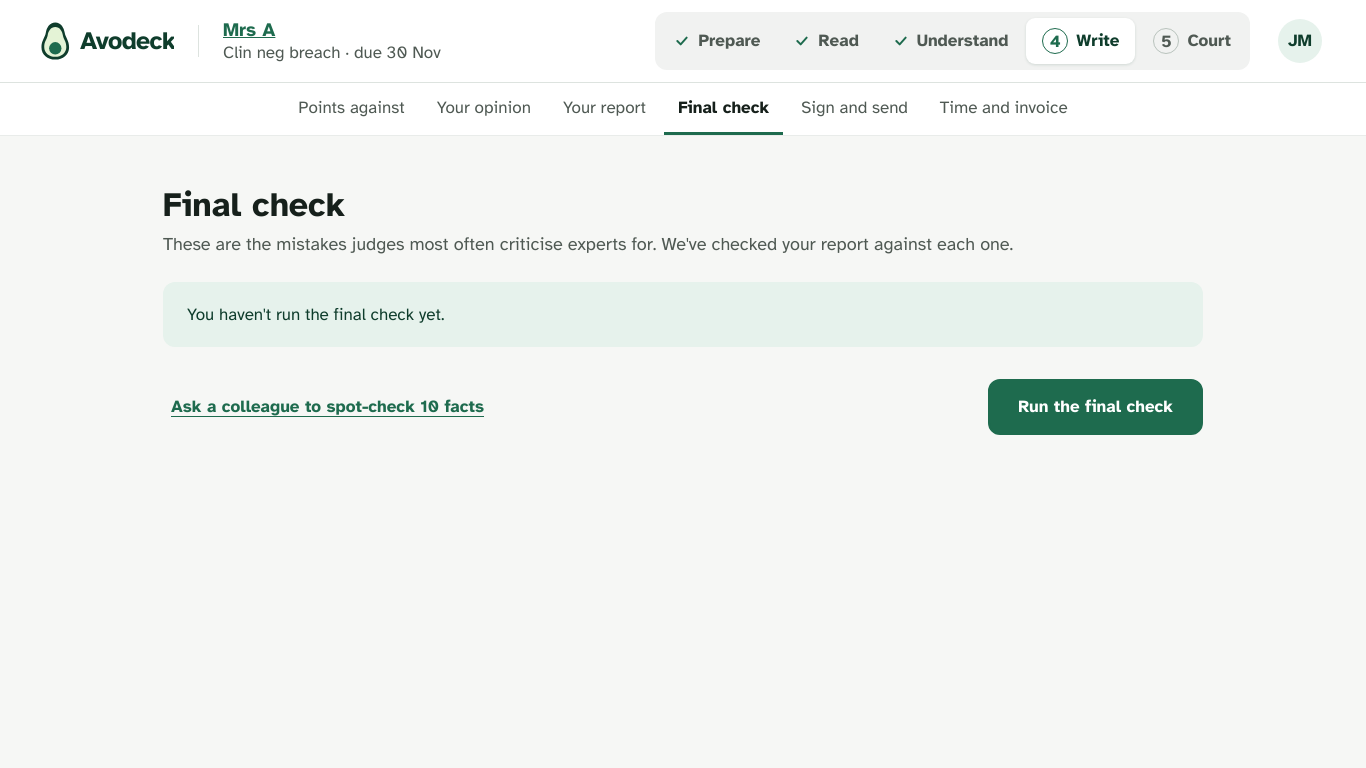
Test: running the check before a report is built points to the build
Click the button "Run the final check". click: point(1096, 407)
box: [988,379,1203,435]
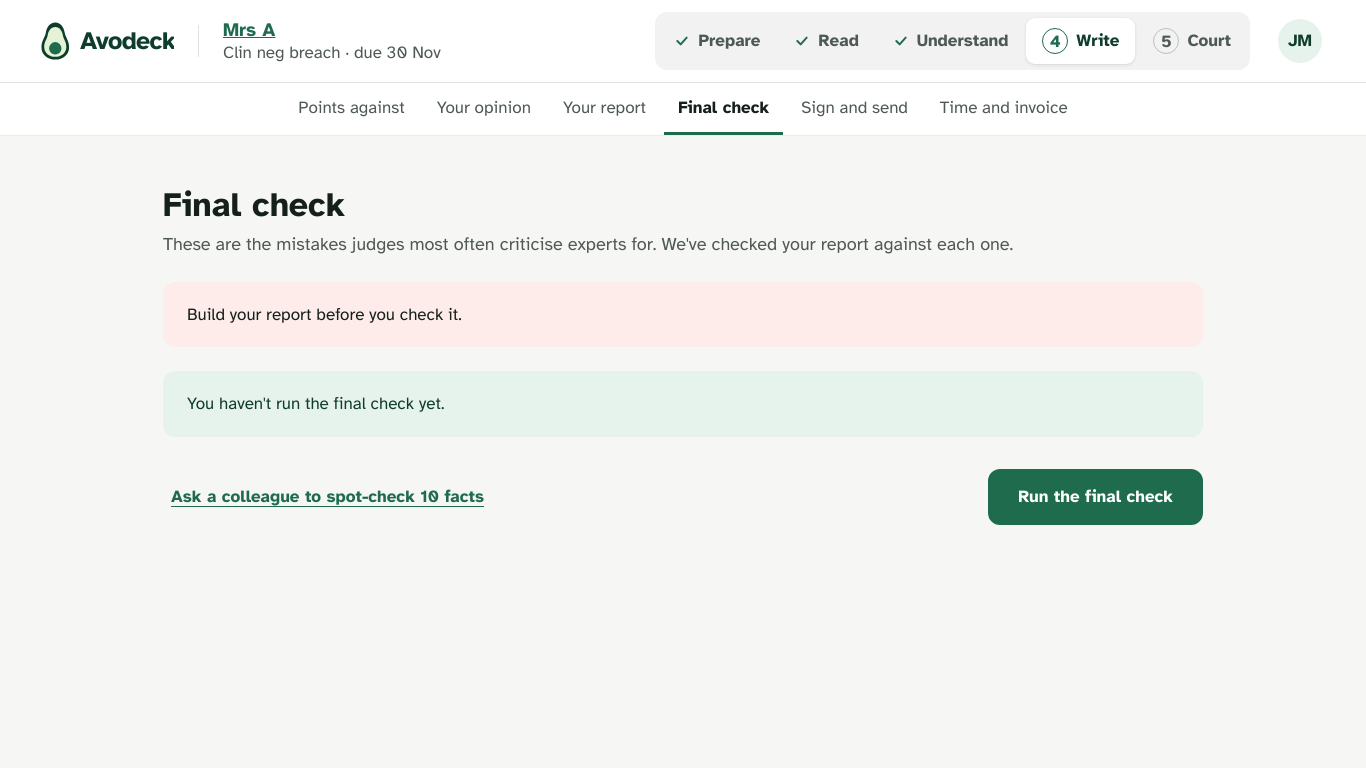
Result: the text "Build your report before you check it." is shown at [187,304,462,324]
